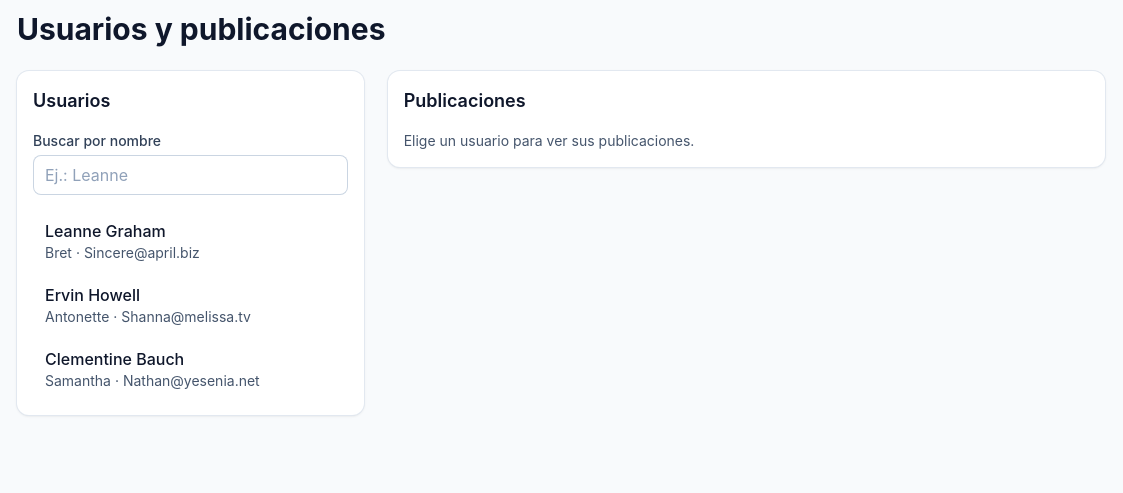
Scenario: user posts › explains when the user has no posts
Click the button "Ervin Howell Antonette · Shanna@melissa.tv". click: [190, 305]
box: [33, 275, 348, 335]
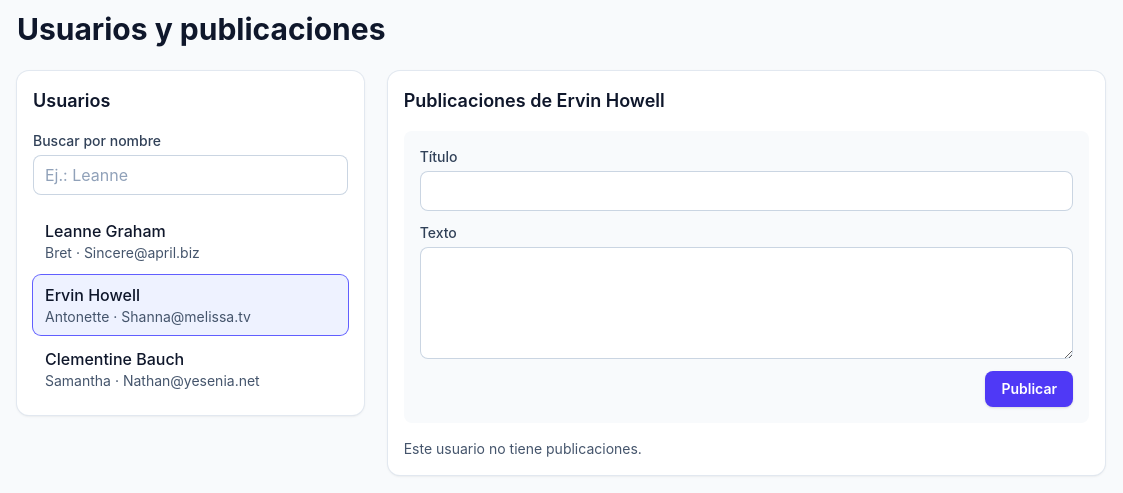
Expected: the text "Este usuario no tiene publicaciones." is shown, [404, 440, 642, 457]
